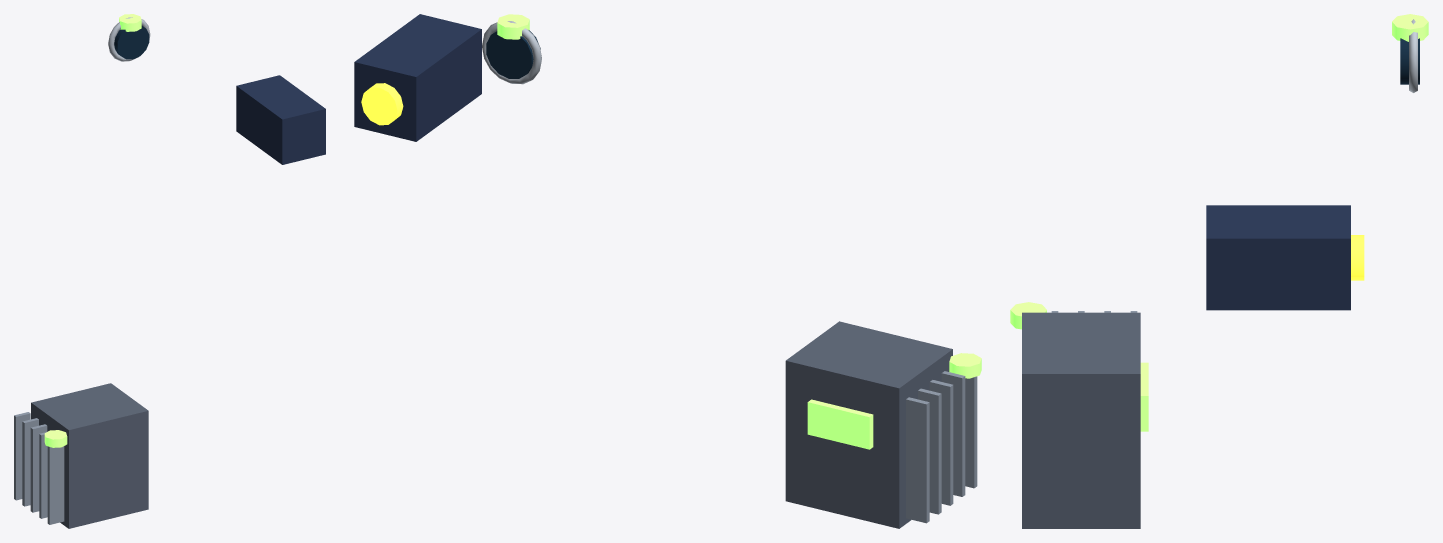
File: tower_detector_analysis_s5.glb
3 views of the same model, side by side, from view 1: azimuth 30°, elevation 25°; view 2: azimuth 150°, elevation 25°; view 3: azimuth 270°, elevation 25° (orthographic). The views are drawn at different scales.
Visible parts, largest first — view 1: detector_recorder, detector_mark_projector, detector_recorder_fins, detector_analysis_lens, detector_analysis_lens_ring, detector_up_analysis_l5_stud; view 2: detector_recorder, detector_mark_projector, detector_recorder_fins, detector_recorder_face, detector_analysis_lens, detector_mark_lens, detector_analysis_lens_ring; view 3: detector_recorder, detector_mark_projector, detector_up_analysis_l3_stud, detector_mark_lens, detector_recorder_face, detector_analysis_lens_ring, detector_up_analysis_l5_stud, detector_analysis_lens.
Part boxes in pixels (box(x1,y1,x2,y2)): detector_recorder: box(31, 383, 148, 528); detector_mark_projector: box(236, 75, 325, 164); detector_recorder_fins: box(14, 412, 64, 524); detector_analysis_lens: box(114, 26, 149, 59); detector_analysis_lens_ring: box(108, 17, 150, 61); detector_up_analysis_l5_stud: box(44, 430, 67, 447); detector_recorder: box(785, 321, 952, 528); detector_mark_projector: box(354, 14, 481, 141); detector_recorder_fins: box(906, 371, 977, 523); detector_recorder_face: box(807, 399, 873, 449); detector_analysis_lens: box(486, 30, 540, 78); detector_mark_lens: box(361, 83, 403, 125); detector_analysis_lens_ring: box(482, 21, 541, 84); detector_recorder: box(1022, 312, 1140, 528); detector_mark_projector: box(1206, 205, 1350, 310); detector_up_analysis_l3_stud: box(1392, 14, 1428, 41); detector_mark_lens: box(1351, 235, 1364, 280); detector_recorder_face: box(1140, 362, 1148, 431); detector_analysis_lens_ring: box(1409, 19, 1417, 92); detector_up_analysis_l5_stud: box(1010, 302, 1046, 329); detector_analysis_lens: box(1400, 38, 1419, 84).
Bounding box in the file's own units: 0.928 × 0.988 × 0.636.
